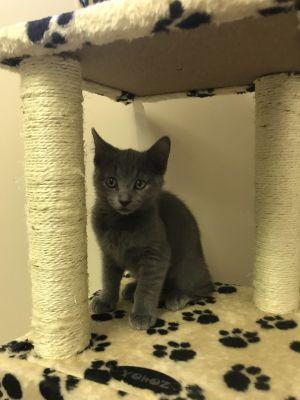rblue: (75, 123, 183, 238)
